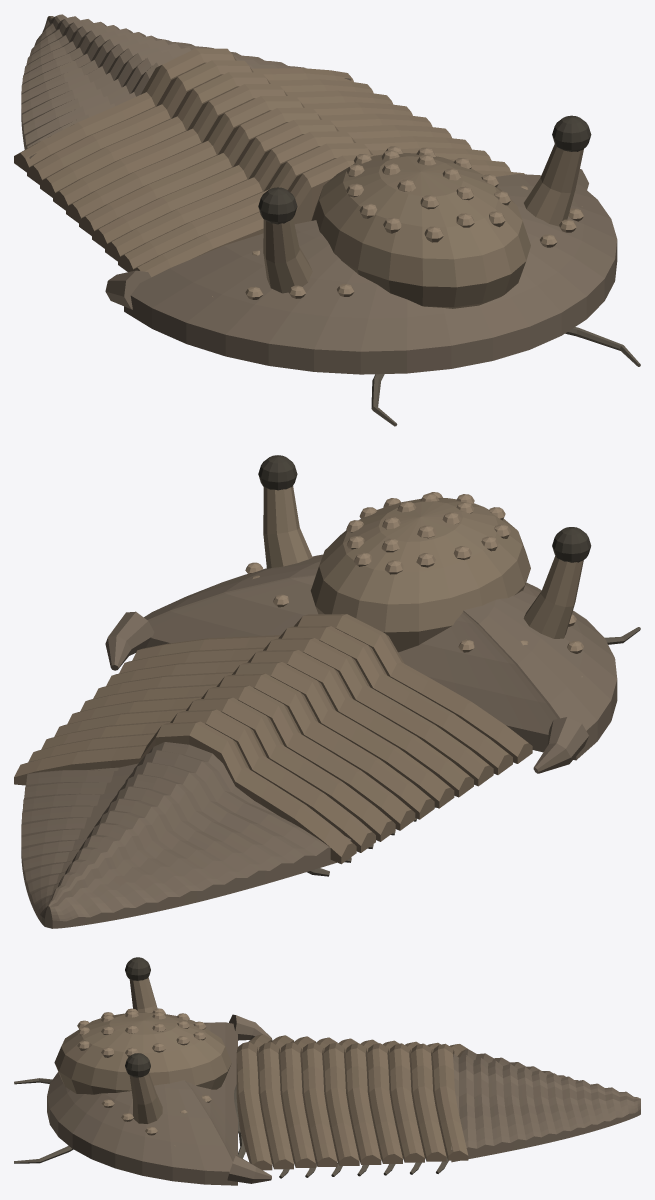
3 views of the same model, one above another, from view 1: azimuth 30°, elevation 25°; view 2: azimuth 150°, elevation 25°; view 3: azimuth 270°, elevation 25° (orthographic). The views are drawn at different scales.
Visible parts, largest first — view 1: articulated-thoracic-tergites, vaulted-cephalon, vaulted-lobate-glabella, fused-densely-ribbed-pygidium, paired-eye-peduncles, low-cephalic-tubercles, paired-visual-surfaces, inferred-subordinate-appendages; view 2: articulated-thoracic-tergites, fused-densely-ribbed-pygidium, vaulted-cephalon, vaulted-lobate-glabella, paired-eye-peduncles, low-cephalic-tubercles, paired-visual-surfaces; view 3: articulated-thoracic-tergites, vaulted-cephalon, fused-densely-ribbed-pygidium, vaulted-lobate-glabella, low-cephalic-tubercles, paired-eye-peduncles, inferred-subordinate-appendages, paired-visual-surfaces.
Part boxes in pixels (left/top/right/bottom): articulated-thoracic-tergites: left=14, top=48, right=524, bottom=277; vaulted-cephalon: left=105, top=169, right=617, bottom=374; vaulted-lobate-glabella: left=311, top=153, right=530, bottom=308; fused-densely-ribbed-pygidium: left=21, top=14, right=351, bottom=158; paired-eye-peduncles: left=263, top=144, right=583, bottom=293; low-cephalic-tubercles: left=211, top=146, right=583, bottom=299; paired-visual-surfaces: left=258, top=115, right=591, bottom=224; inferred-subordinate-appendages: left=371, top=327, right=640, bottom=426; articulated-thoracic-tergites: left=14, top=614, right=532, bottom=864; fused-densely-ribbed-pygidium: left=21, top=742, right=351, bottom=928; vaulted-cephalon: left=105, top=554, right=617, bottom=773; vaulted-lobate-glabella: left=310, top=498, right=530, bottom=652; paired-eye-peduncles: left=263, top=486, right=583, bottom=638; low-cephalic-tubercles: left=245, top=492, right=583, bottom=676; paired-visual-surfaces: left=258, top=455, right=591, bottom=562; articulated-thoracic-tergites: left=236, top=1034, right=468, bottom=1170; vaulted-cephalon: left=47, top=1014, right=271, bottom=1185; fused-densely-ribbed-pygidium: left=451, top=1049, right=640, bottom=1162; vaulted-lobate-glabella: left=54, top=1012, right=231, bottom=1094; low-cephalic-tubercles: left=77, top=1008, right=211, bottom=1146; paired-eye-peduncles: left=129, top=977, right=162, bottom=1123; inferred-subordinate-appendages: left=14, top=1078, right=448, bottom=1178; paired-visual-surfaces: left=125, top=957, right=150, bottom=1077.
Bounding box in the file's own units: 0.0241 × 0.0093 × 0.042.
